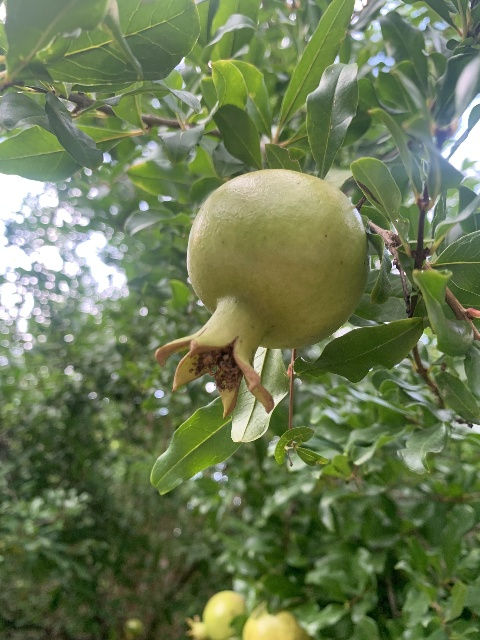mid-growth: (155, 169, 368, 420), (186, 590, 247, 640)
